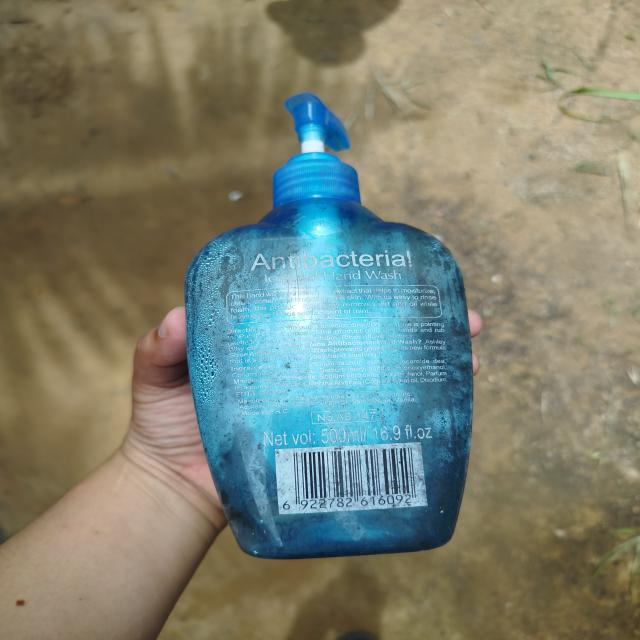plastic: (173, 88, 497, 576)
